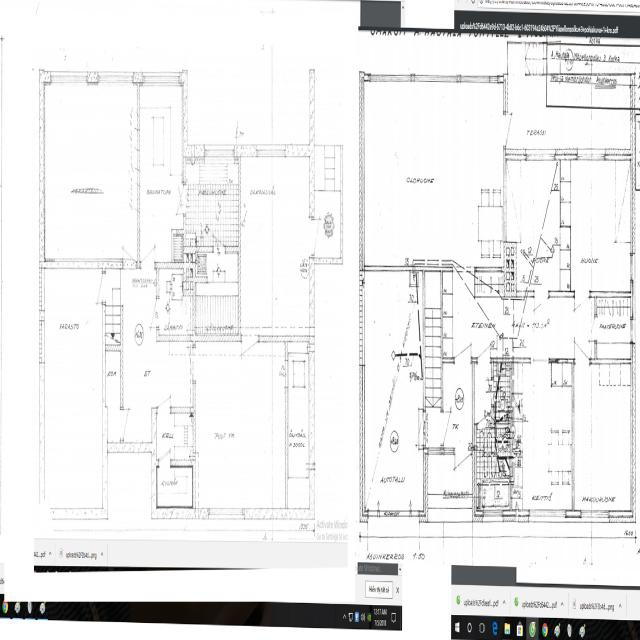door: (455, 448, 472, 494), (455, 318, 471, 364), (242, 335, 258, 380), (574, 292, 590, 334), (310, 220, 328, 254), (504, 114, 522, 146), (141, 228, 155, 269), (534, 291, 548, 332), (575, 324, 589, 364), (179, 348, 195, 381), (441, 413, 457, 445), (410, 413, 425, 446), (124, 229, 136, 269), (121, 410, 136, 441), (478, 327, 490, 365), (478, 392, 490, 430), (90, 274, 105, 304), (158, 377, 170, 414), (171, 185, 186, 214), (144, 299, 159, 327), (159, 432, 170, 467), (214, 219, 225, 252), (481, 380, 494, 406), (585, 318, 597, 341)
